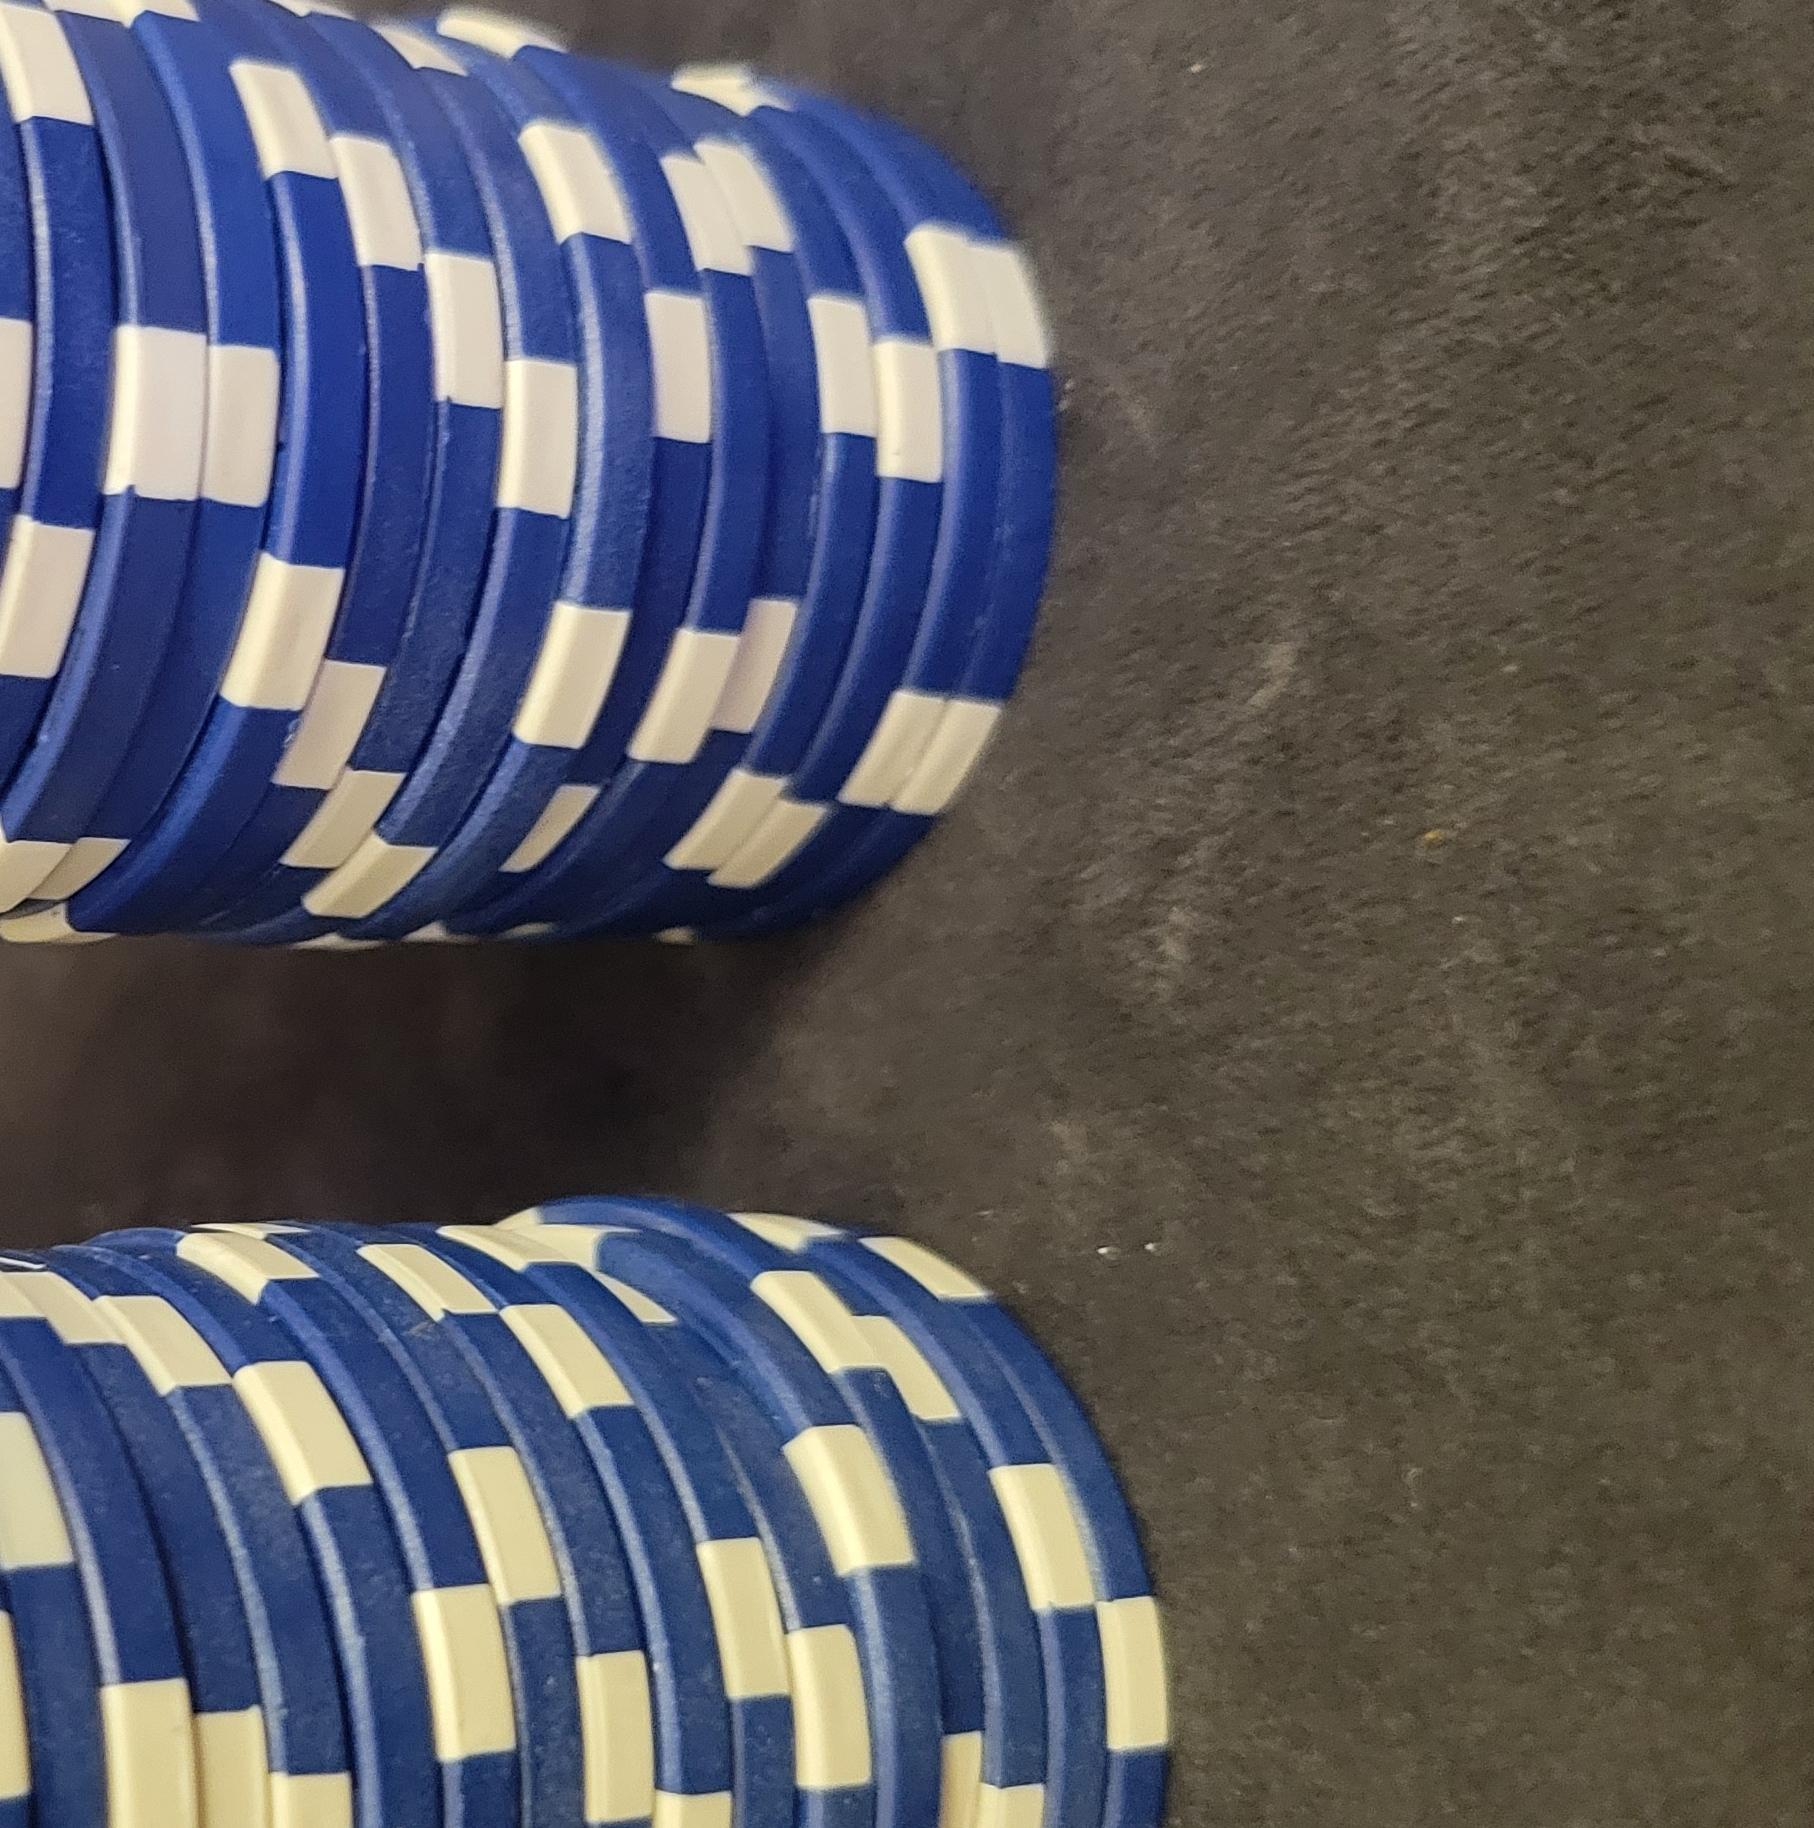Chip: (2, 166, 867, 1828)
